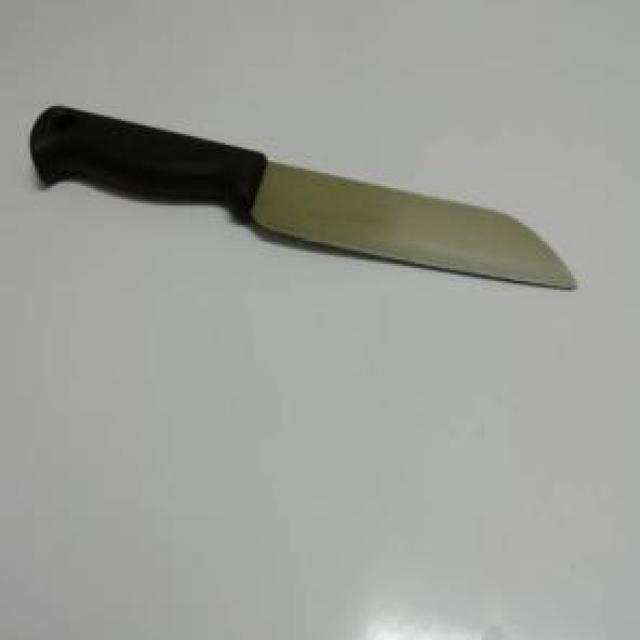knife: (30, 102, 585, 293)
